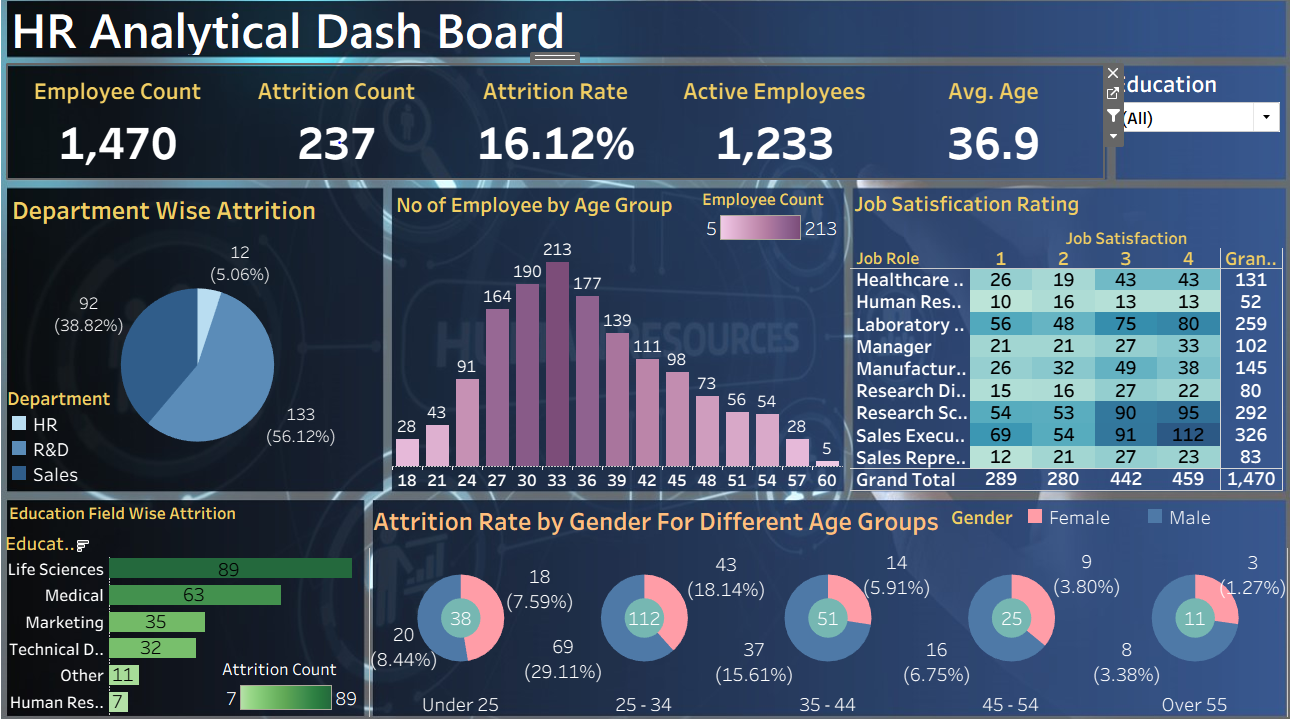

The page's visual inventory and layout, read from the dashboard file:
{"tool":"tableau","page":{"name":"HR ANALYTICAL DASH BOARD","canvas":[1620,750],"ordinal":0},"visuals":[{"type":"image","param":"C:/Users/Jam/Downloads/HR background.jpg","box":[8,8,1604,734]},{"type":"text","box":[171,18,754,54]},{"type":"worksheet","title":"KPI","mark":"Automatic","box":[172,82,1095,113]},{"type":"filter","title":"Department Wise Attrition","param":"[federated.1fjobj71bc7wxt156sl3x0hoot55].[none:Education:nk]","box":[1277,85,170,114]},{"type":"worksheet","title":"Job Satisfication Rating","mark":"Square","rows":["Job Role"],"cols":["Job Satisfaction"],"box":[1014,202,433,306]},{"type":"worksheet","title":"No of Employee by Age Group","mark":"Automatic","rows":["Employee Count"],"cols":["Age (bin)"],"box":[556,203,451,306]},{"type":"legend","title":"No of Employee by Age Group","param":"[federated.1fjobj71bc7wxt156sl3x0hoot55].[sum:Employee Count:qk]","box":[866,205,140,59]},{"type":"worksheet","title":"Department Wise Attrition","mark":"Pie","box":[172,206,379,304]},{"type":"legend","title":"Department Wise Attrition","param":"[federated.1fjobj71bc7wxt156sl3x0hoot55].[none:Department:nk]","box":[171,402,103,101]},{"type":"worksheet","title":"Education Field Wise Attrition","mark":"Automatic","rows":["Education Field"],"cols":["Calculation_1221319970161930240"],"box":[169,515,361,217]},{"type":"worksheet","title":"Attrition Rate by Gender For Different Age Groups","mark":"Pie","rows":["Calculation_1221319970226401285","Calculation_1221319970226401285"],"cols":["CF_age band"],"box":[533,517,919,218]},{"type":"legend","title":"Attrition Rate by Gender For Different Age Groups","param":"[federated.1fjobj71bc7wxt156sl3x0hoot55].[none:Gender:nk]","box":[1115,521,331,47]},{"type":"legend","title":"Education Field Wise Attrition","param":"[federated.1fjobj71bc7wxt156sl3x0hoot55].[sum:Calculation_1221319970161930240:qk","box":[386,675,140,56]}]}

Visuals, with their boxes on the page's 1620x750 design canvas (x1, y1, x2, y2). These are canvas units, not pixel positions in the 1290x719 screenshot, which may show the page scaled, cropped or inside an application window:
image: <bbox>8, 8, 1612, 742</bbox>
text: <bbox>171, 18, 925, 72</bbox>
"KPI" worksheet: <bbox>172, 82, 1267, 195</bbox>
"Department Wise Attrition" filter: <bbox>1277, 85, 1447, 199</bbox>
"Job Satisfication Rating" worksheet (Square marks): <bbox>1014, 202, 1447, 508</bbox>
"No of Employee by Age Group" worksheet: <bbox>556, 203, 1007, 509</bbox>
"No of Employee by Age Group" legend: <bbox>866, 205, 1006, 264</bbox>
"Department Wise Attrition" worksheet (Pie marks): <bbox>172, 206, 551, 510</bbox>
"Department Wise Attrition" legend: <bbox>171, 402, 274, 503</bbox>
"Education Field Wise Attrition" worksheet: <bbox>169, 515, 530, 732</bbox>
"Attrition Rate by Gender For Different Age Groups" worksheet (Pie marks): <bbox>533, 517, 1452, 735</bbox>
"Attrition Rate by Gender For Different Age Groups" legend: <bbox>1115, 521, 1446, 568</bbox>
"Education Field Wise Attrition" legend: <bbox>386, 675, 526, 731</bbox>
